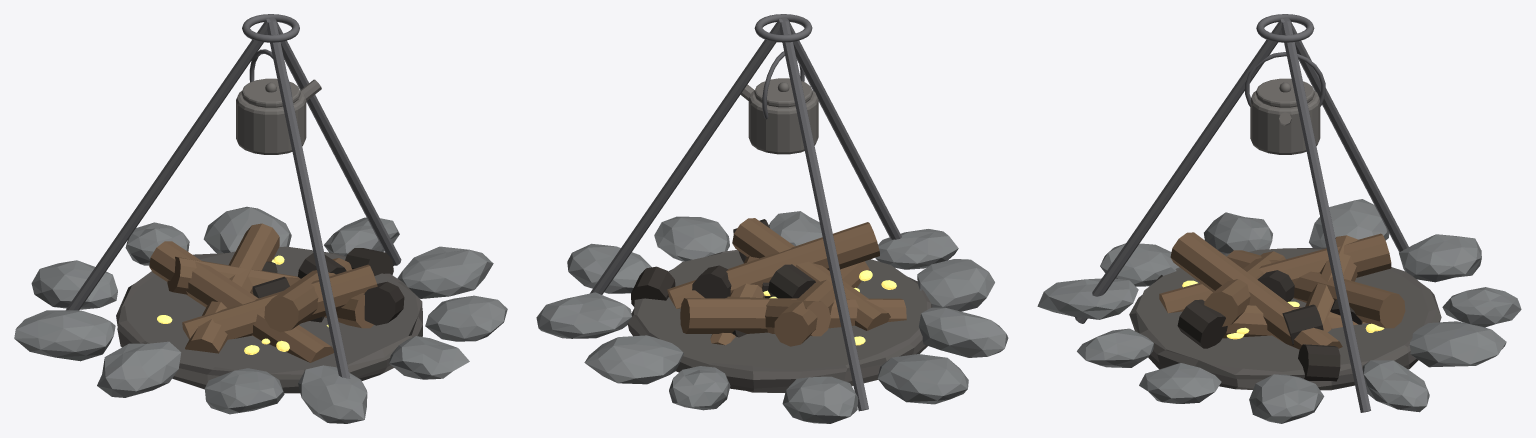
Rendered from campfire.glb.
3 views of the same model, side by side, from view 1: azimuth 30°, elevation 25°; view 2: azimuth 150°, elevation 25°; view 3: azimuth 270°, elevation 25° (orthographic).
Parts seen in each view (by area): view 1: stones, logs, ash, tripod, kettle, embers; view 2: stones, logs, ash, tripod, kettle; view 3: stones, logs, ash, tripod, kettle.
Boxes of the visible parts, x1,y1,x2,y2 form: stones: [14, 206, 507, 423]; logs: [149, 223, 404, 362]; ash: [116, 246, 422, 393]; tripod: [66, 14, 401, 378]; kettle: [236, 49, 321, 154]; embers: [157, 255, 328, 354]; stones: [536, 211, 1008, 423]; logs: [631, 218, 906, 346]; ash: [627, 250, 932, 392]; tripod: [590, 14, 901, 411]; kettle: [740, 51, 818, 154]; stones: [1037, 199, 1521, 423]; logs: [1159, 232, 1405, 381]; ash: [1129, 247, 1441, 390]; tripod: [1075, 14, 1408, 412]; kettle: [1245, 52, 1325, 154].
Bounding box in the file's own units: 1.51 × 1.07 × 1.45.
